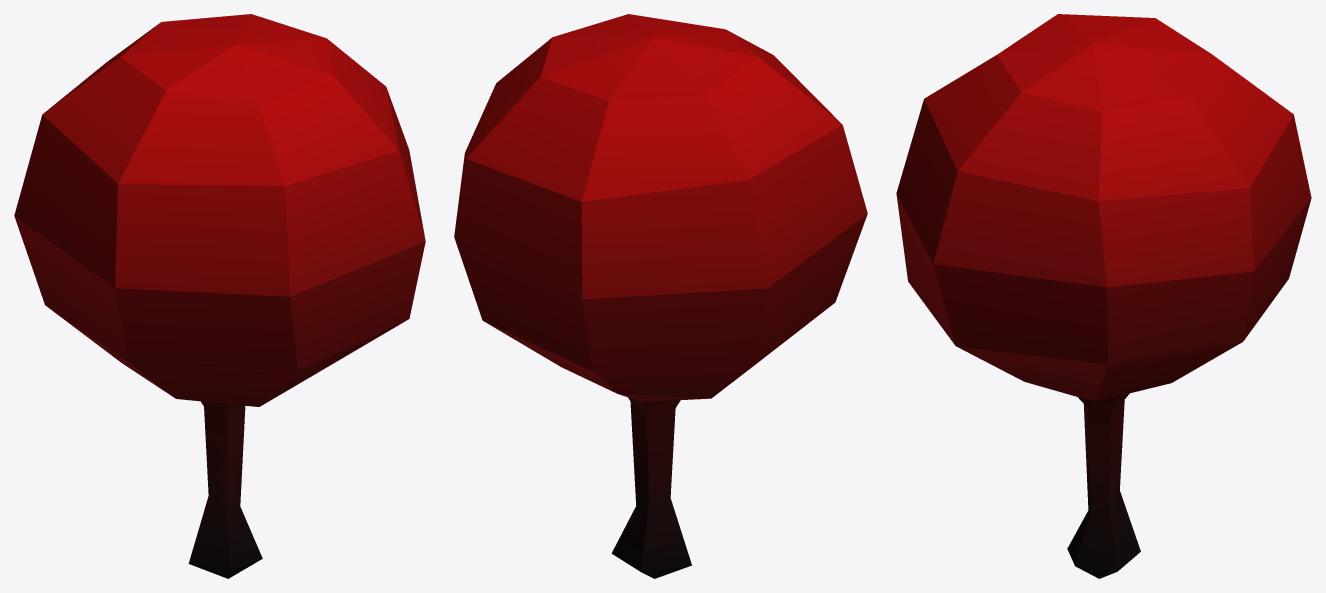
Rendered from SM_Env_Plant_Balloon_02.fbx.
The picture shows the model from 3 angles, left to right: view 1: azimuth 30°, elevation 25°; view 2: azimuth 150°, elevation 25°; view 3: azimuth 270°, elevation 25°; orthographic projection.
Visible parts, largest first — view 1: SM_Env_Plant_Balloon_02; view 2: SM_Env_Plant_Balloon_02; view 3: SM_Env_Plant_Balloon_02.
Boxes of the visible parts, x1,y1,x2,y2 form: SM_Env_Plant_Balloon_02: (14, 14, 425, 578); SM_Env_Plant_Balloon_02: (454, 14, 867, 578); SM_Env_Plant_Balloon_02: (896, 14, 1311, 578).
Bounding box in the file's own units: 94.51 × 139 × 97.44.
